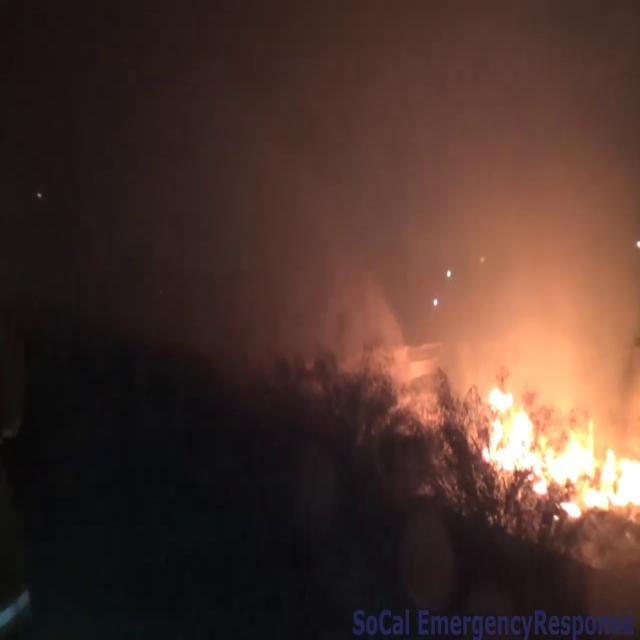Fire: (474, 370, 640, 514)
Smoke: (66, 0, 640, 373)
